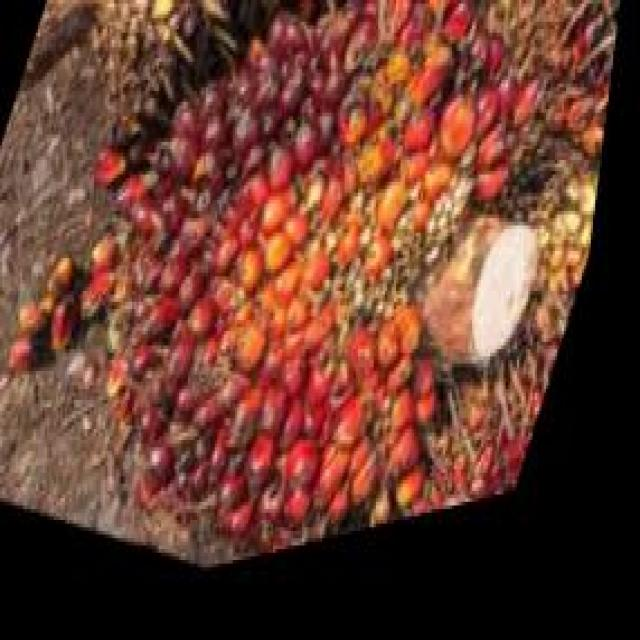Ripefruit: (29, 0, 589, 622)
